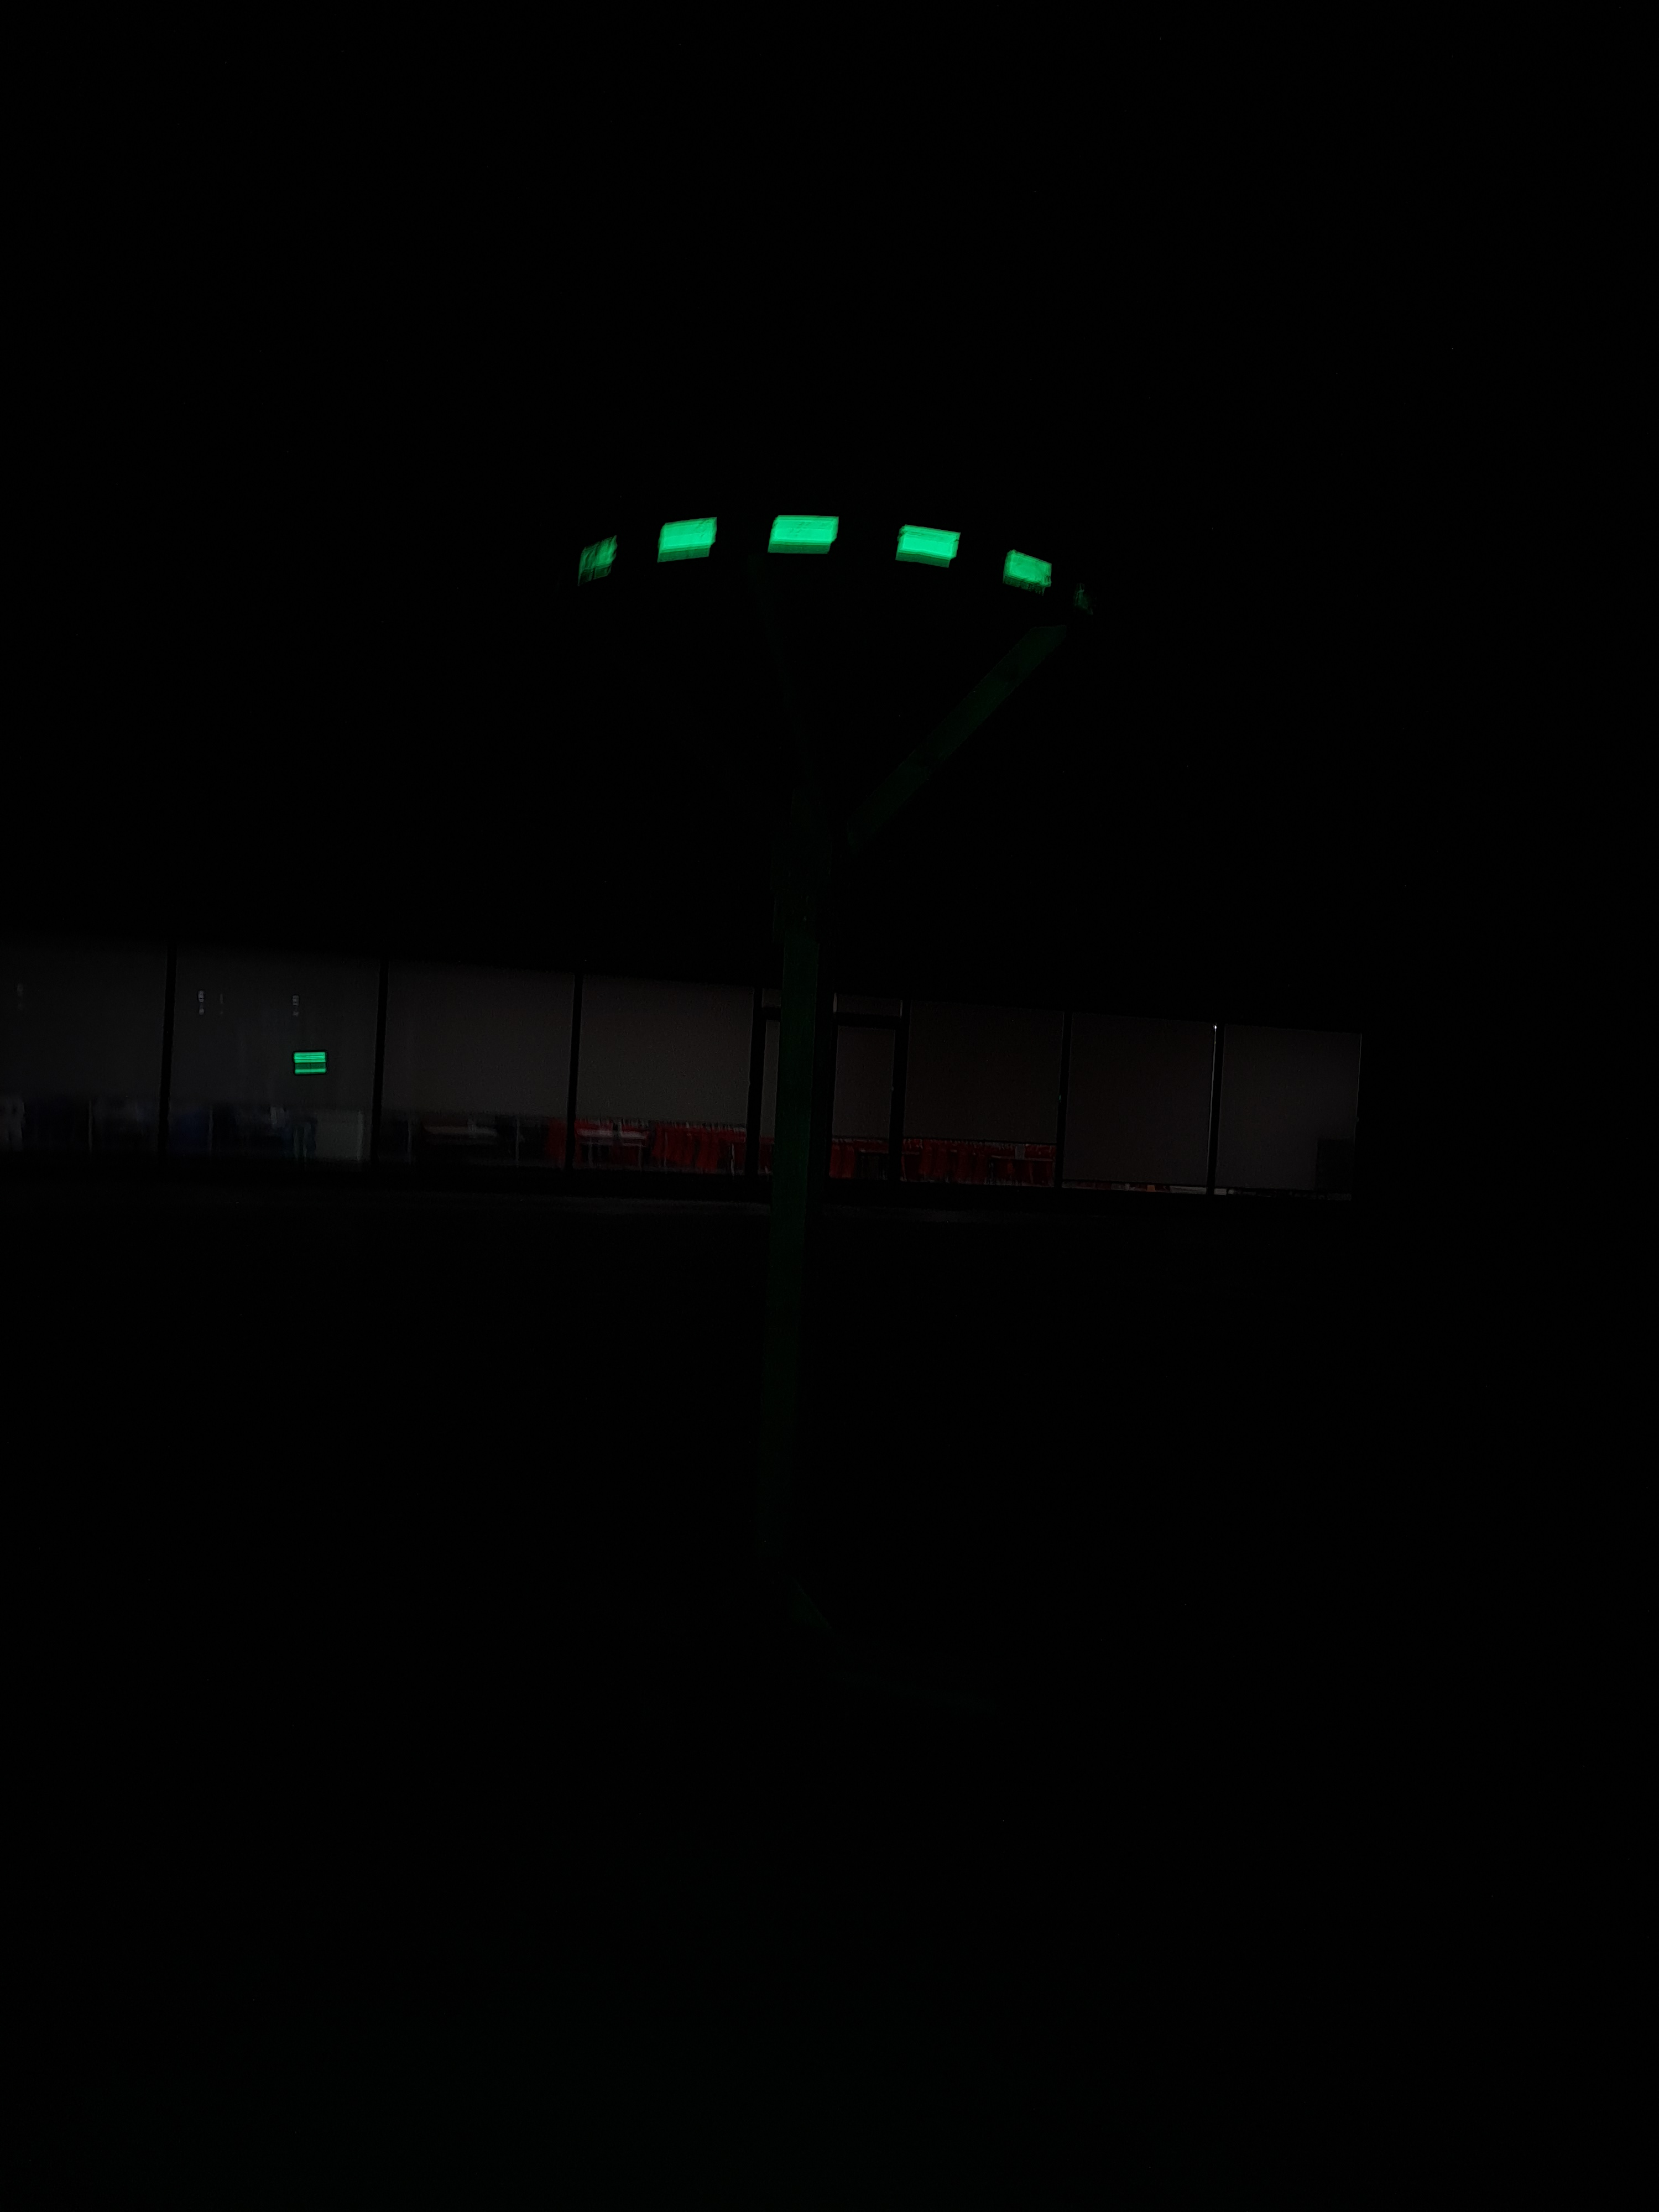hoop: (580, 505, 1060, 611)
